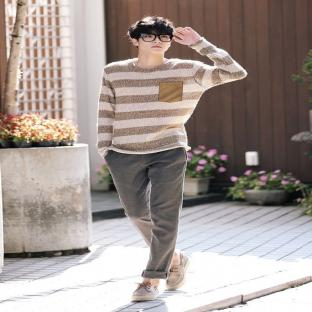Human: (97, 16, 247, 301)
